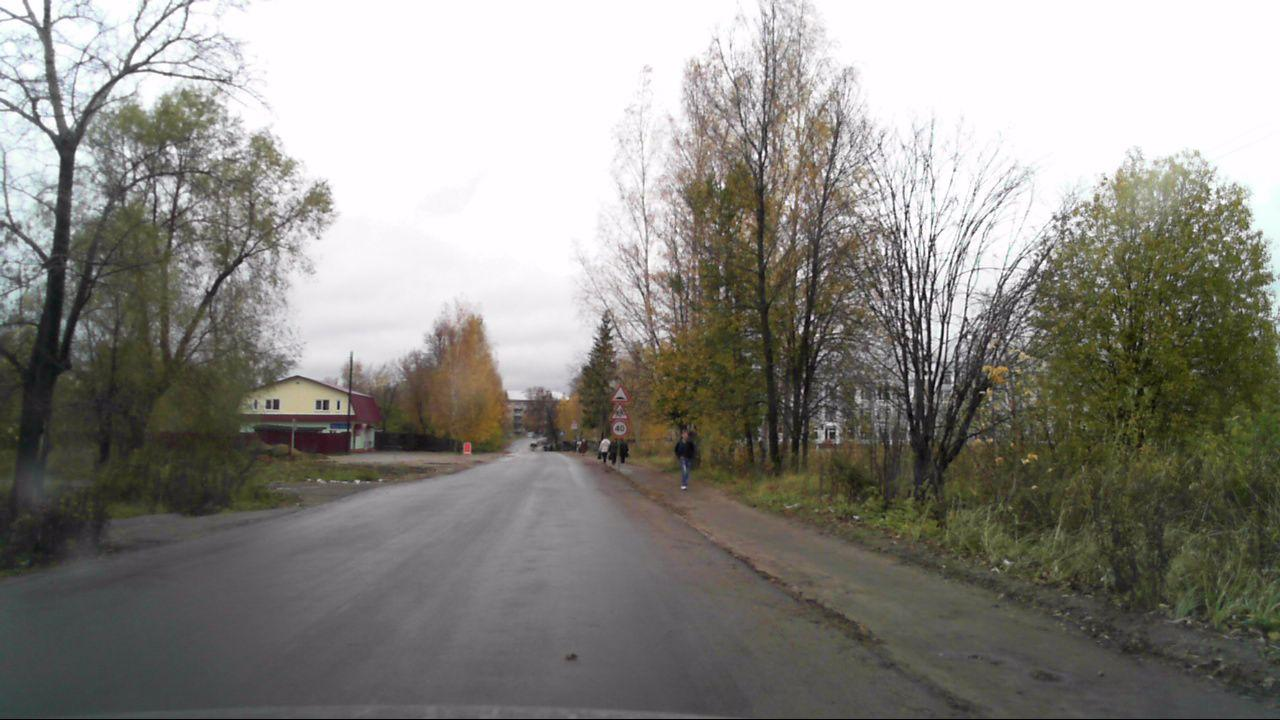road_sign: (605, 399, 635, 421), (607, 382, 633, 401), (613, 420, 628, 436)
